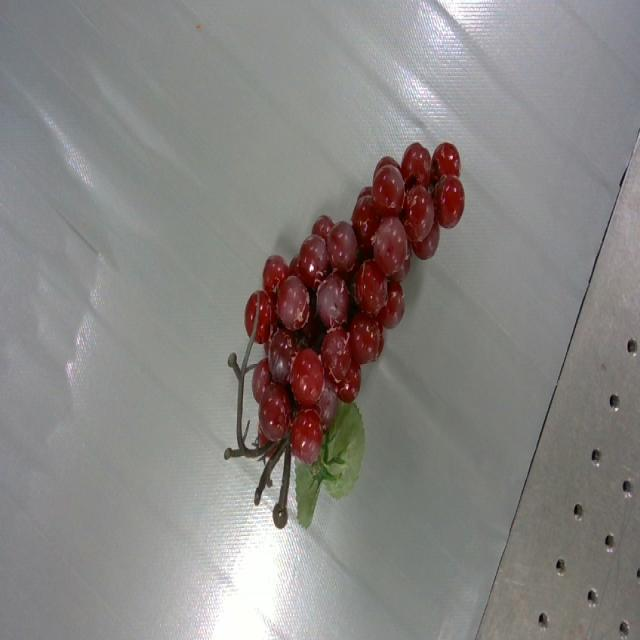grape: (225, 144, 465, 528)
